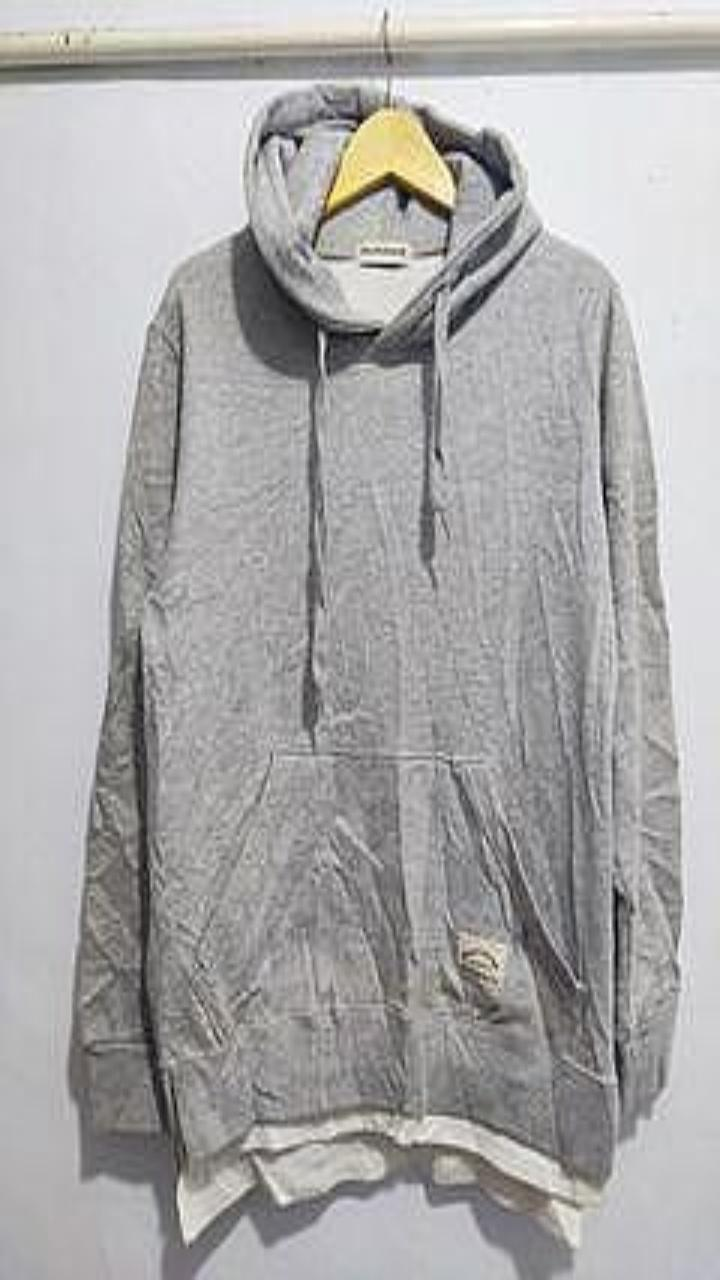Hoodie: (76, 84, 681, 1235)
